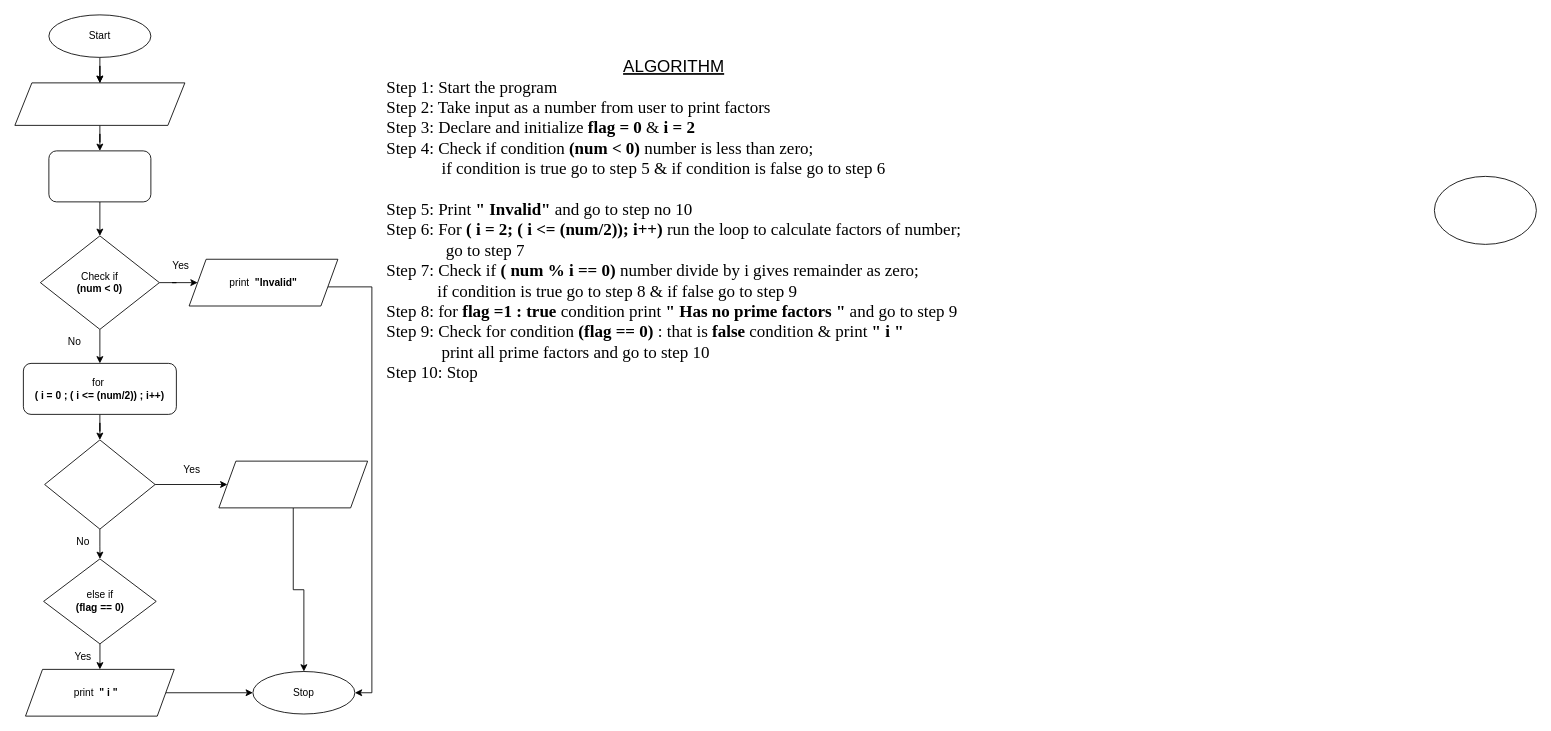
This 1551x731 diagram has some shape labels left out. Each missing label, with the centre of its shape:
Check if ( num % i == 0 ): point (99, 484)
Declare and initialize flag = 0 i=2: point (99, 176)
Enter the number to print prime factors: point (99, 103)
flag = 1 print "Has no prime factors": point (293, 484)
